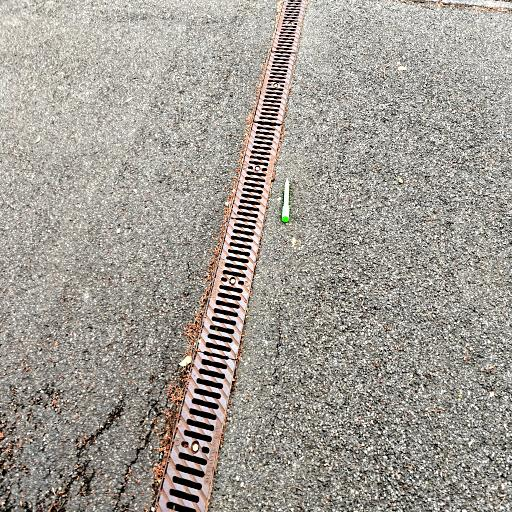Probe-Detection: (282, 178, 289, 222)
